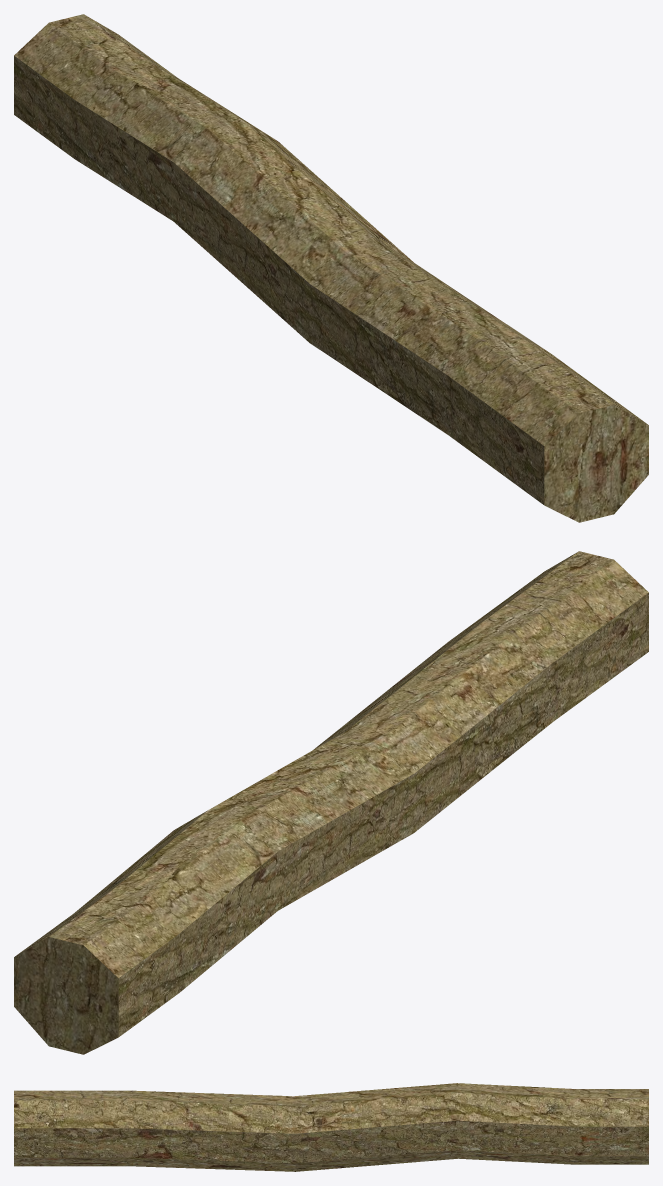
Rendered from Stick.fbx.
The picture shows the model from 3 angles, top to bottom: view 1: azimuth 30°, elevation 25°; view 2: azimuth 150°, elevation 25°; view 3: azimuth 270°, elevation 25°; orthographic projection. The views are drawn at different scales.
Parts seen in each view (by area): view 1: Cube; view 2: Cube; view 3: Cube.
Boxes of the visible parts, bbox=[...] form: Cube: bbox=[14, 14, 648, 522]; Cube: bbox=[14, 551, 648, 1054]; Cube: bbox=[14, 1083, 648, 1171].
Bounding box in the file's own units: 7.58 × 9.09 × 66.58.
Materials: 1 (1 with a texture image).
